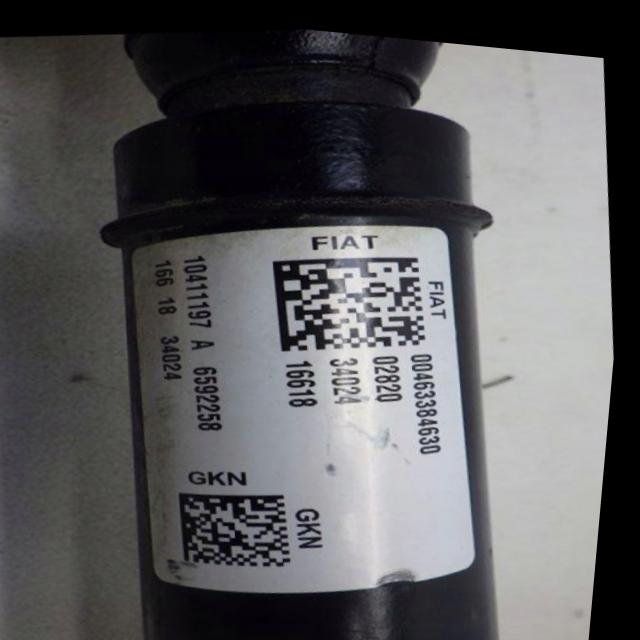datamatrix: (270, 236, 438, 358), (183, 476, 305, 573)
